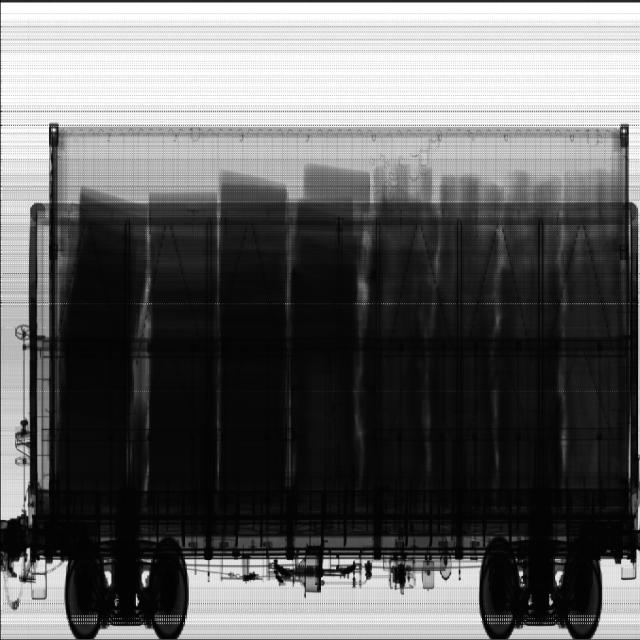clothes: (371, 165, 622, 488)
fabrics: (54, 167, 371, 489)
